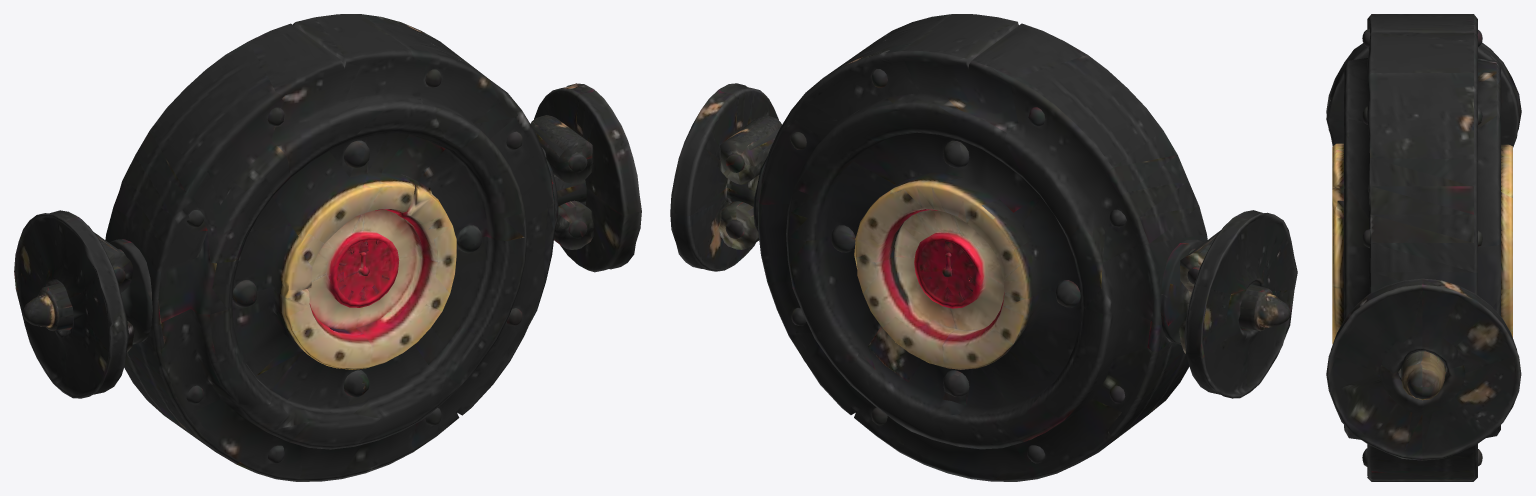
File: target.glb
3 renders of one model, left to right at view 1: azimuth 30°, elevation 25°; view 2: azimuth 150°, elevation 25°; view 3: azimuth 270°, elevation 25°, orthographic.
Visible parts, largest first — view 1: midway-fit; view 2: midway-fit; view 3: midway-fit.
Boxes of the visible parts, x1,y1,x2,y2 form: midway-fit: (14,14,641,481); midway-fit: (670,14,1297,481); midway-fit: (1326,14,1521,481).
Bounding box in the file's own units: 1 × 0.6584 × 0.2748.
1 material, 1 textured.
